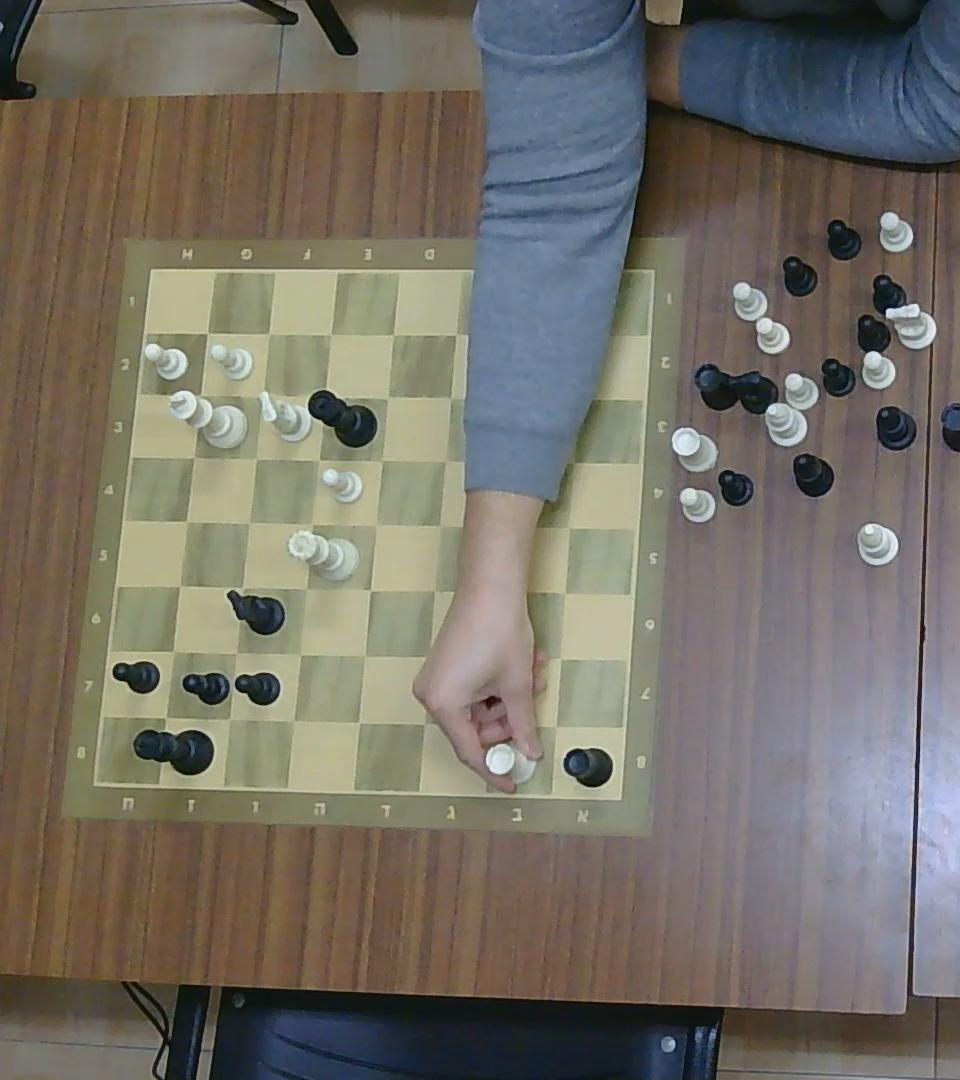xcorner: (563, 326, 596, 353), (345, 707, 372, 736), (558, 446, 585, 475), (411, 707, 437, 737), (549, 643, 575, 672), (215, 704, 241, 733), (185, 381, 212, 408), (279, 706, 305, 734), (352, 640, 377, 669), (568, 383, 593, 412), (153, 703, 179, 730), (432, 445, 458, 472), (557, 512, 582, 540), (486, 576, 511, 604), (491, 512, 516, 540), (503, 382, 528, 410), (478, 709, 502, 738), (484, 643, 508, 672), (247, 383, 273, 409), (551, 578, 576, 605), (544, 712, 569, 739), (421, 577, 446, 604), (167, 572, 192, 599), (369, 445, 394, 472), (311, 383, 336, 410), (508, 320, 533, 347), (287, 639, 311, 666), (237, 509, 261, 536), (358, 575, 382, 602), (414, 642, 438, 669), (228, 574, 253, 599), (381, 321, 406, 346), (174, 508, 198, 534), (439, 383, 463, 409), (498, 445, 521, 472), (181, 444, 205, 469), (223, 640, 247, 665), (294, 576, 318, 601), (427, 512, 451, 537), (306, 446, 330, 471), (444, 321, 468, 346), (196, 319, 219, 345), (162, 638, 185, 664), (364, 512, 388, 536), (318, 321, 341, 346), (257, 321, 280, 346), (300, 512, 323, 537), (245, 445, 268, 469), (376, 384, 399, 408)
